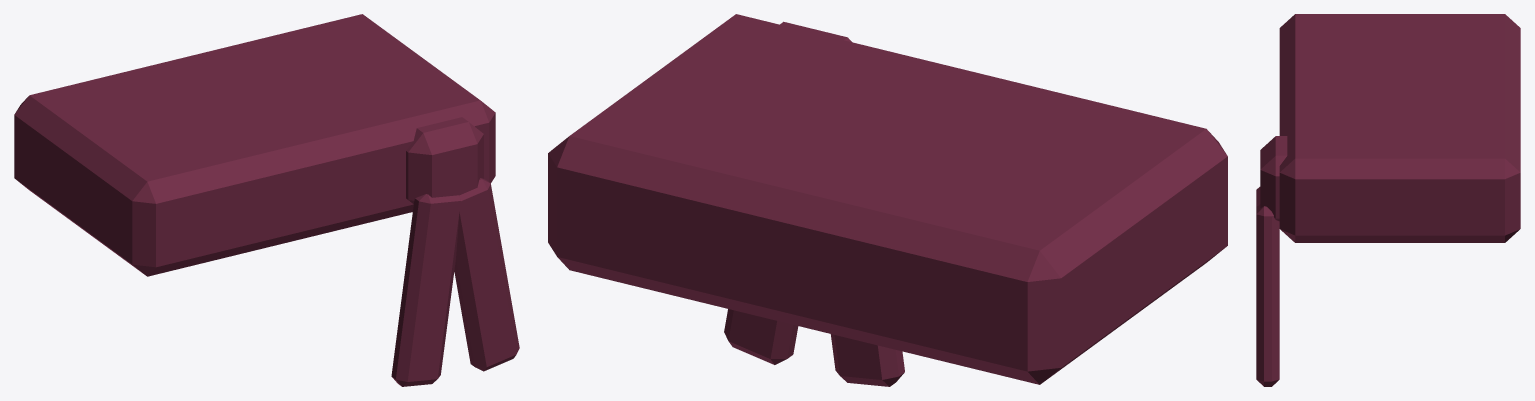
The model's file is Sash.fbx.
The picture shows the model from 3 angles, left to right: view 1: azimuth 30°, elevation 25°; view 2: azimuth 150°, elevation 25°; view 3: azimuth 270°, elevation 25°; orthographic projection. The views are drawn at different scales.
Visible parts, largest first — view 1: Sash__hips; view 2: Sash__hips; view 3: Sash__hips.
Part boxes in pixels (bbox=[...]): Sash__hips: bbox=[14, 14, 519, 386]; Sash__hips: bbox=[548, 14, 1227, 386]; Sash__hips: bbox=[1256, 14, 1520, 386].
Size of the model in its own units: 0.4886 by 0.3216 by 0.34.
